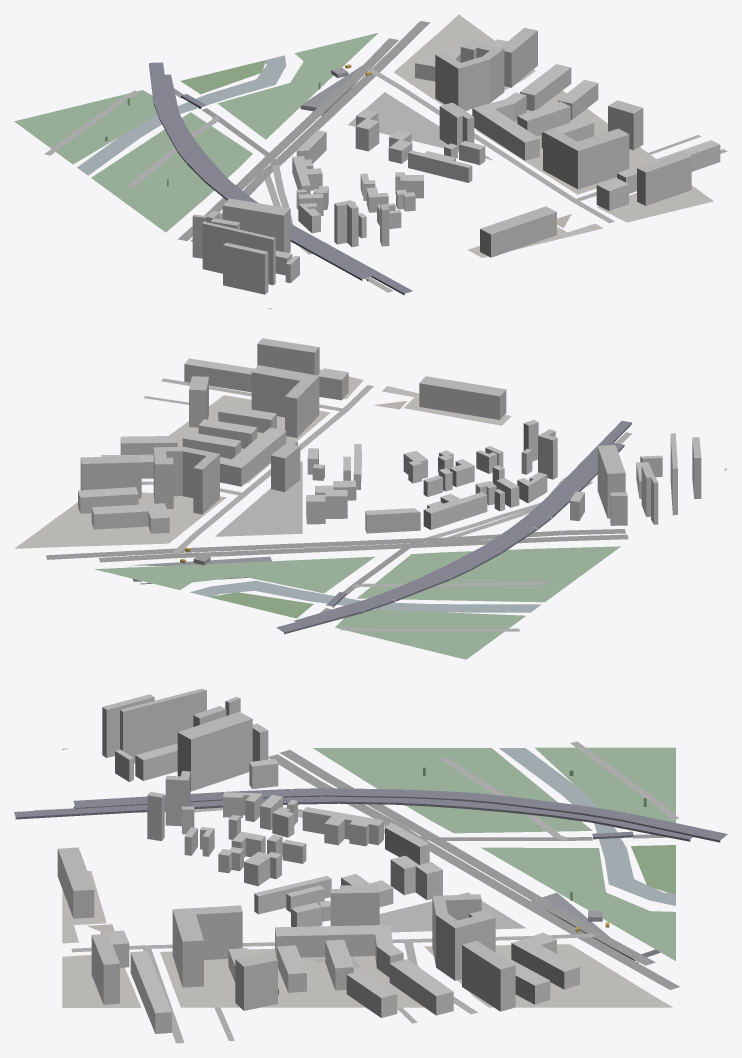
3 renders of one model, top to bottom at view 1: azimuth 30°, elevation 25°; view 2: azimuth 150°, elevation 25°; view 3: azimuth 270°, elevation 25°, orthographic. The views are drawn at different scales.
Bounding box in the file's own units: 582 × 65.52 × 582.
